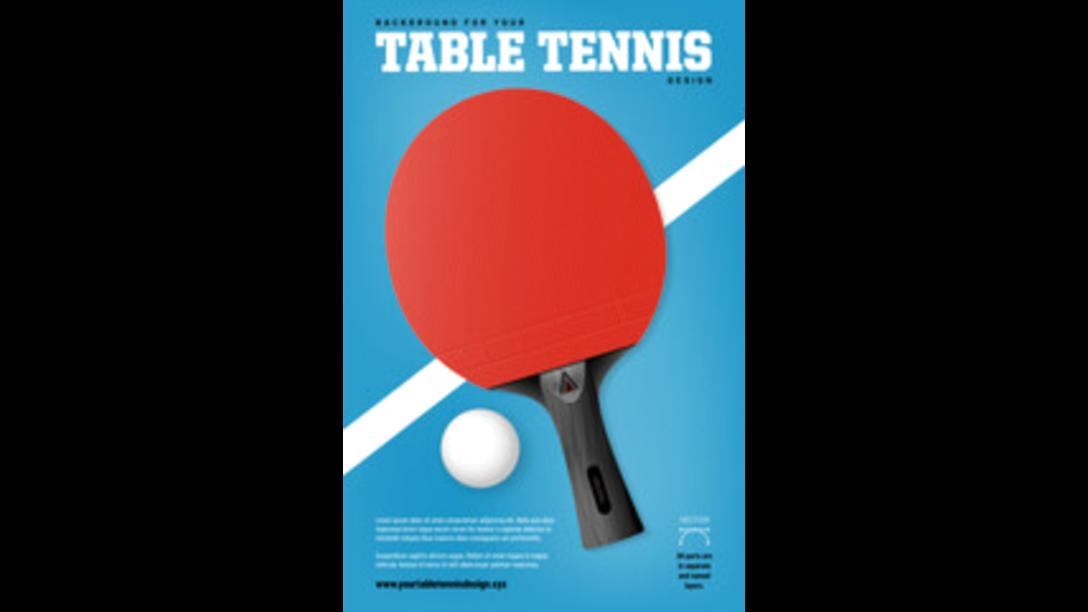Table-Tennis-Ball: (443, 410, 519, 486)
